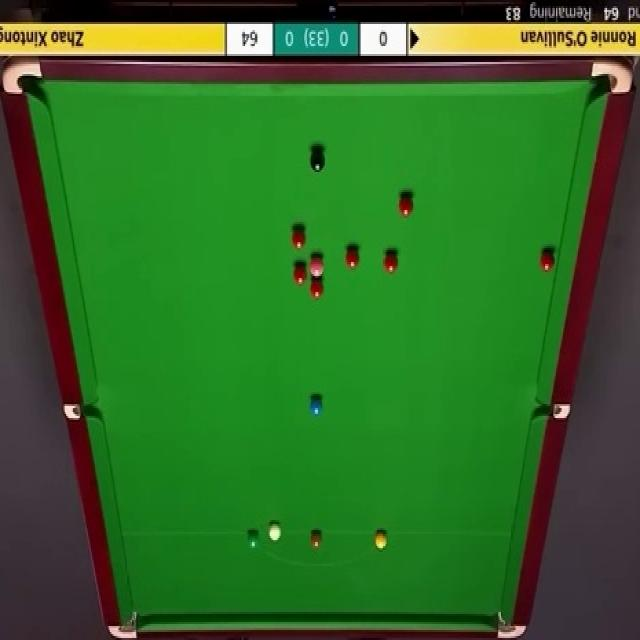black-ball: (308, 150, 324, 173)
blue-ball: (309, 396, 324, 418)
brown-ball: (309, 530, 323, 549)
green-ball: (247, 529, 260, 550)
pink-ball: (308, 253, 325, 278)
red-ball: (344, 246, 361, 270), (398, 194, 414, 219), (291, 226, 307, 250), (292, 262, 308, 286), (538, 250, 555, 272), (384, 250, 398, 274), (309, 279, 324, 300)
white-ball: (268, 521, 282, 542)
yellow-ball: (374, 531, 388, 552)
